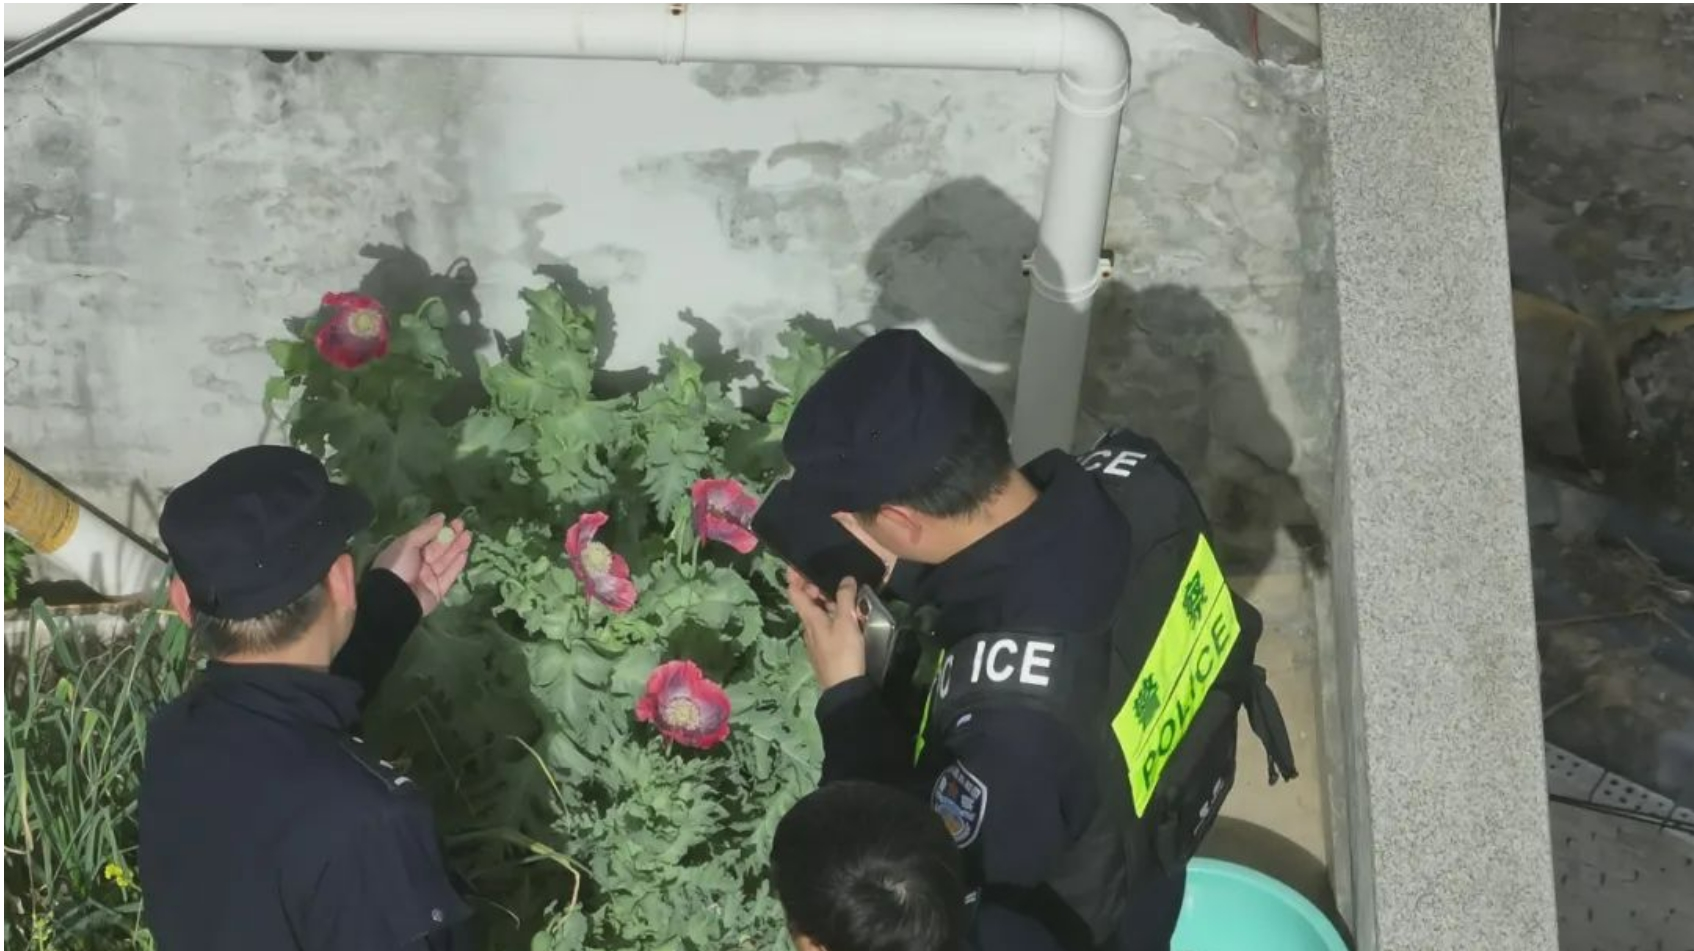Poppy: (287, 261, 816, 934)
